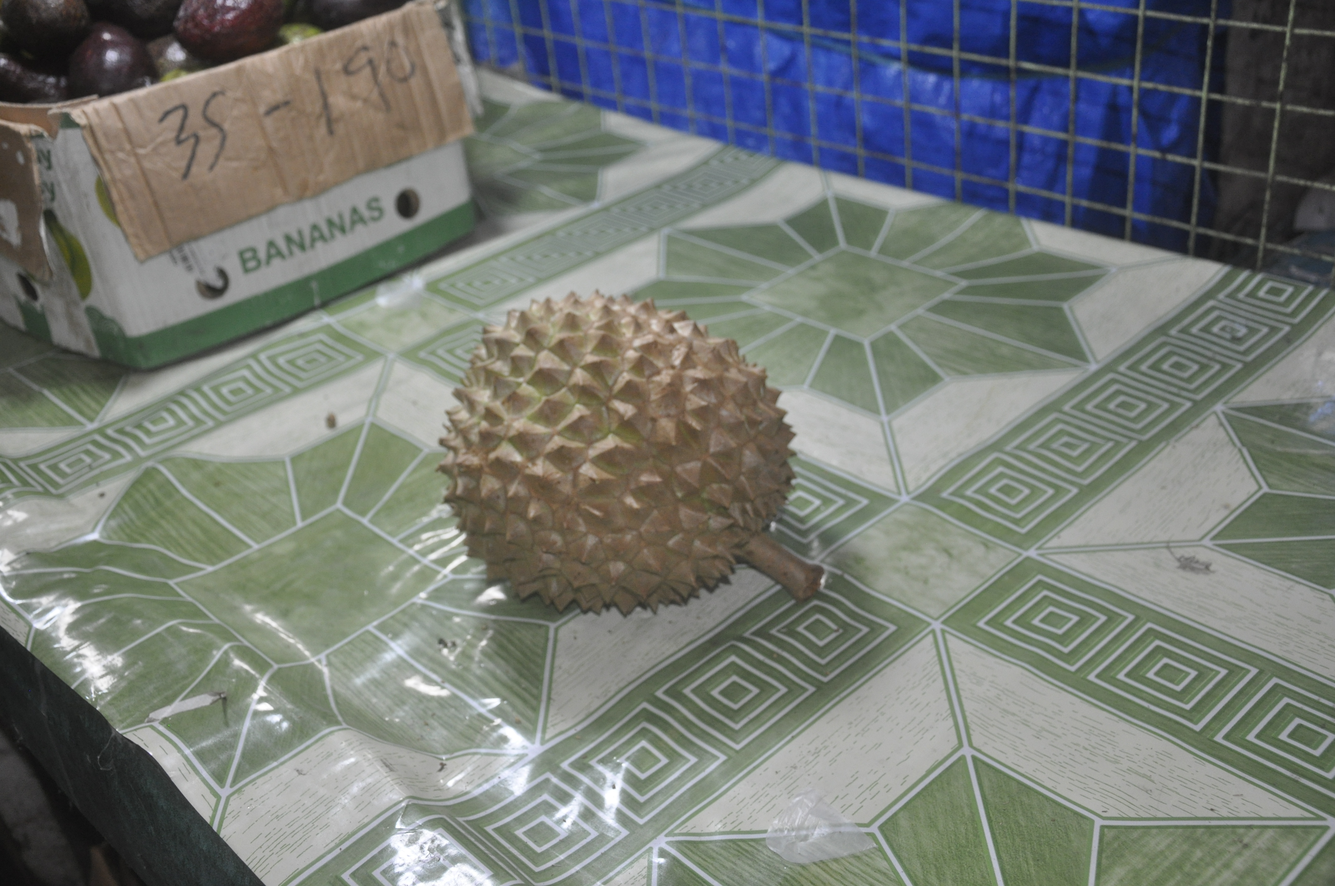mature: (438, 291, 825, 615)
